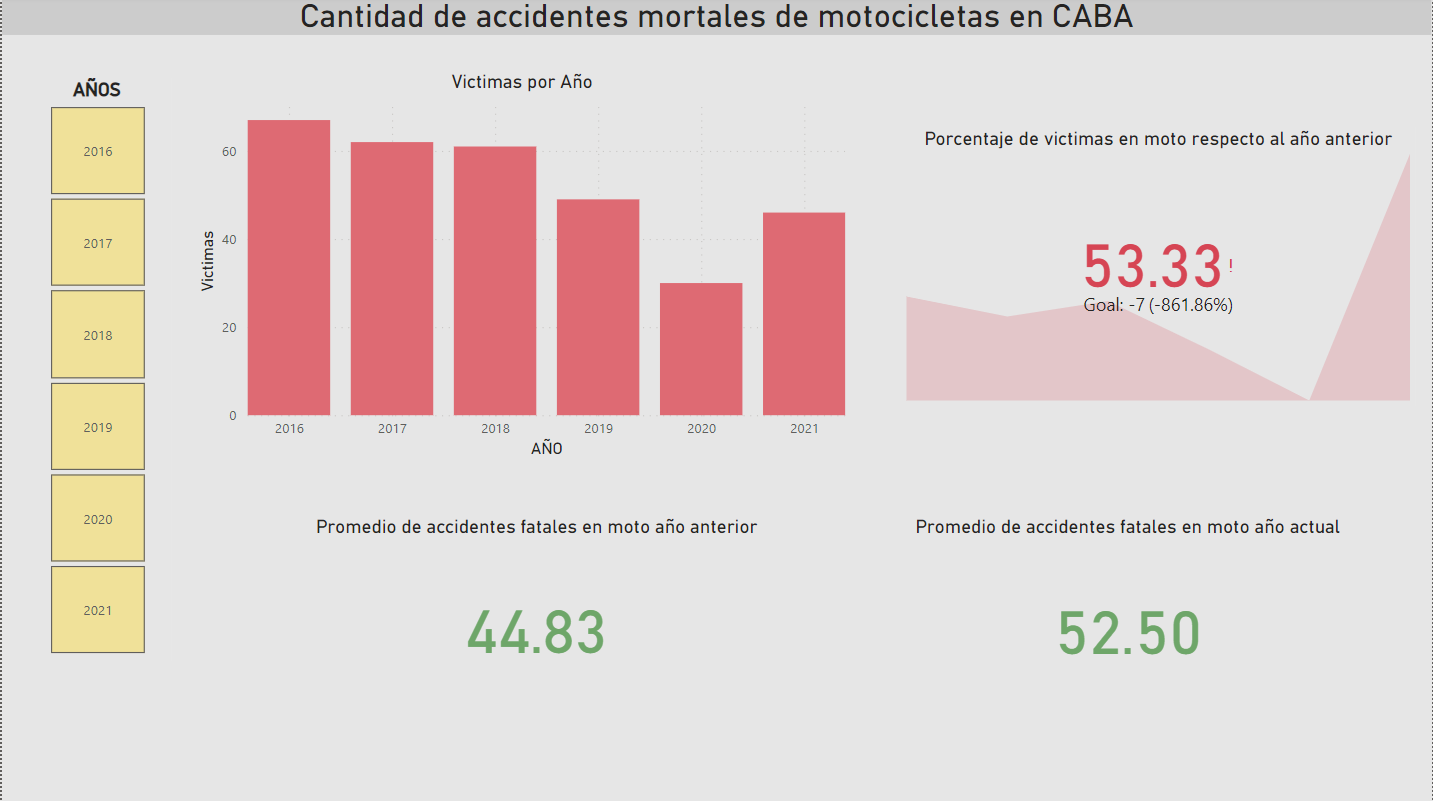

The page's visual inventory and layout, read from the dashboard file:
{"tool":"powerbi","page":{"name":"KPI 2","canvas":[1280,720],"ordinal":3},"visuals":[{"type":"textbox","title":"Cantidad de accidentes mortales de motocicletas en CABA","box":[0,0,1280,34.4],"z":0},{"type":"slicer","title":"AÑOS","fields":{"Values":["data_kpi02.AÑO"]},"box":[18.1,72.4,134,522.3],"z":1000},{"type":"columnChart","title":"Victimas por Año","fields":{"Category":["data_kpi02.AÑO"],"Y":["Sum(data_kpi02.N_VICTIMAS)"]},"box":[171.1,65.2,589.3,352.1],"z":2000},{"type":"kpi","title":"Porcentaje de victimas en moto respecto al año anterior","fields":{"Indicator":["Avg(data_kpi02.VARIACION_VICTIMAS_MOTO)"],"TrendLine":["data_kpi02.AÑO"],"Goal":["data_kpi02.Objetivo2"]},"box":[804.8,116.8,460.8,249.8],"z":3000},{"type":"card","title":"Promedio de accidentes fatales en moto año anterior","fields":{"Values":["Avg(data_kpi02.N_VICTIMAS_ANTERIORES)"]},"box":[223.6,463.5,509.6,176.5],"z":4000},{"type":"card","title":"Promedio de accidentes fatales en moto año actual","fields":{"Values":["Avg(data_kpi02.N_VICTIMAS)"]},"box":[777.6,463.5,461.7,177.4],"z":5000}]}

Visuals, with their boxes in screenshot pixels (x1, y1, x2, y2), scaled from the page's 1280x720 canvas onto the 1433x801 screenshot:
"Cantidad de accidentes mortales de motocicletas en CABA" textbox: crop(0, 0, 1432, 38)
"AÑOS" slicer: crop(20, 81, 170, 662)
"Victimas por Año" columnChart: crop(192, 73, 851, 464)
"Porcentaje de victimas en moto respecto al año anterior" kpi: crop(901, 130, 1417, 408)
"Promedio de accidentes fatales en moto año anterior" card: crop(250, 516, 821, 712)
"Promedio de accidentes fatales en moto año actual" card: crop(871, 516, 1387, 713)
